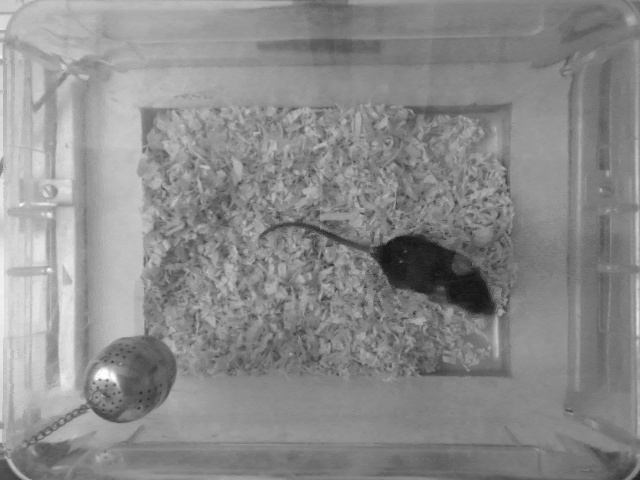mice: (259, 218, 505, 316)
